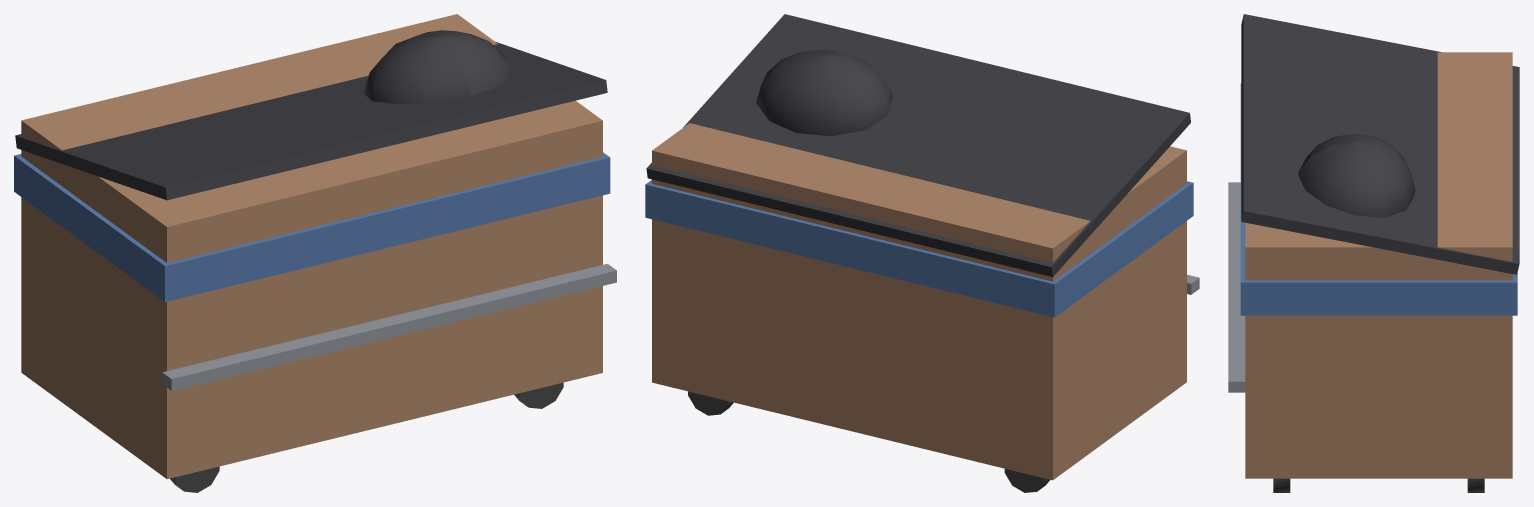
The model's file is prop_dumpster.glb.
The picture shows the model from 3 angles, left to right: view 1: azimuth 30°, elevation 25°; view 2: azimuth 150°, elevation 25°; view 3: azimuth 270°, elevation 25°; orthographic projection. The views are drawn at different scales.
Parts seen in each view (by area): view 1: prop_dumpster; view 2: prop_dumpster; view 3: prop_dumpster.
Boxes of the visible parts, x1,y1,x2,y2 form: prop_dumpster: (14, 14, 616, 492); prop_dumpster: (645, 14, 1199, 492); prop_dumpster: (1228, 14, 1519, 492).
Size of the model in its own units: 1.94 by 1.47 by 1.2.
